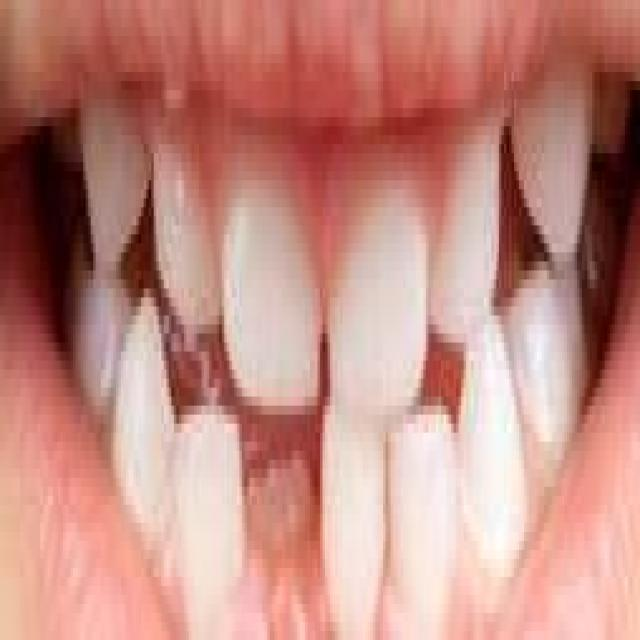caries: (249, 436, 318, 580)
